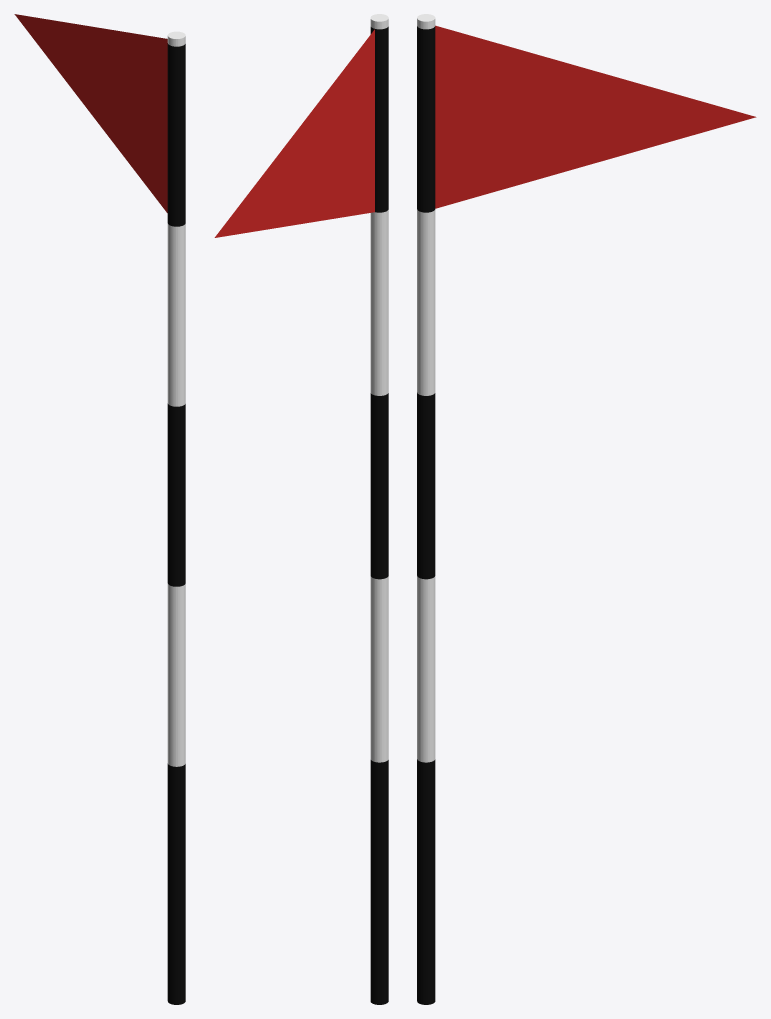
Rendered from flag.glb.
3 views of the same model, side by side, from view 1: azimuth 30°, elevation 25°; view 2: azimuth 150°, elevation 25°; view 3: azimuth 270°, elevation 25° (orthographic).
Parts seen in each view (by area): view 1: pole, flag; view 2: pole, flag; view 3: flag, pole.
Boxes of the visible parts, bbox=[...] form: pole: bbox=[167, 31, 185, 1004]; flag: bbox=[14, 14, 167, 212]; pole: bbox=[370, 14, 388, 1004]; flag: bbox=[214, 29, 374, 237]; flag: bbox=[435, 25, 756, 208]; pole: bbox=[417, 14, 435, 1004].
Size of the model in its own units: 0.4509 by 26.82 by 8.4.
